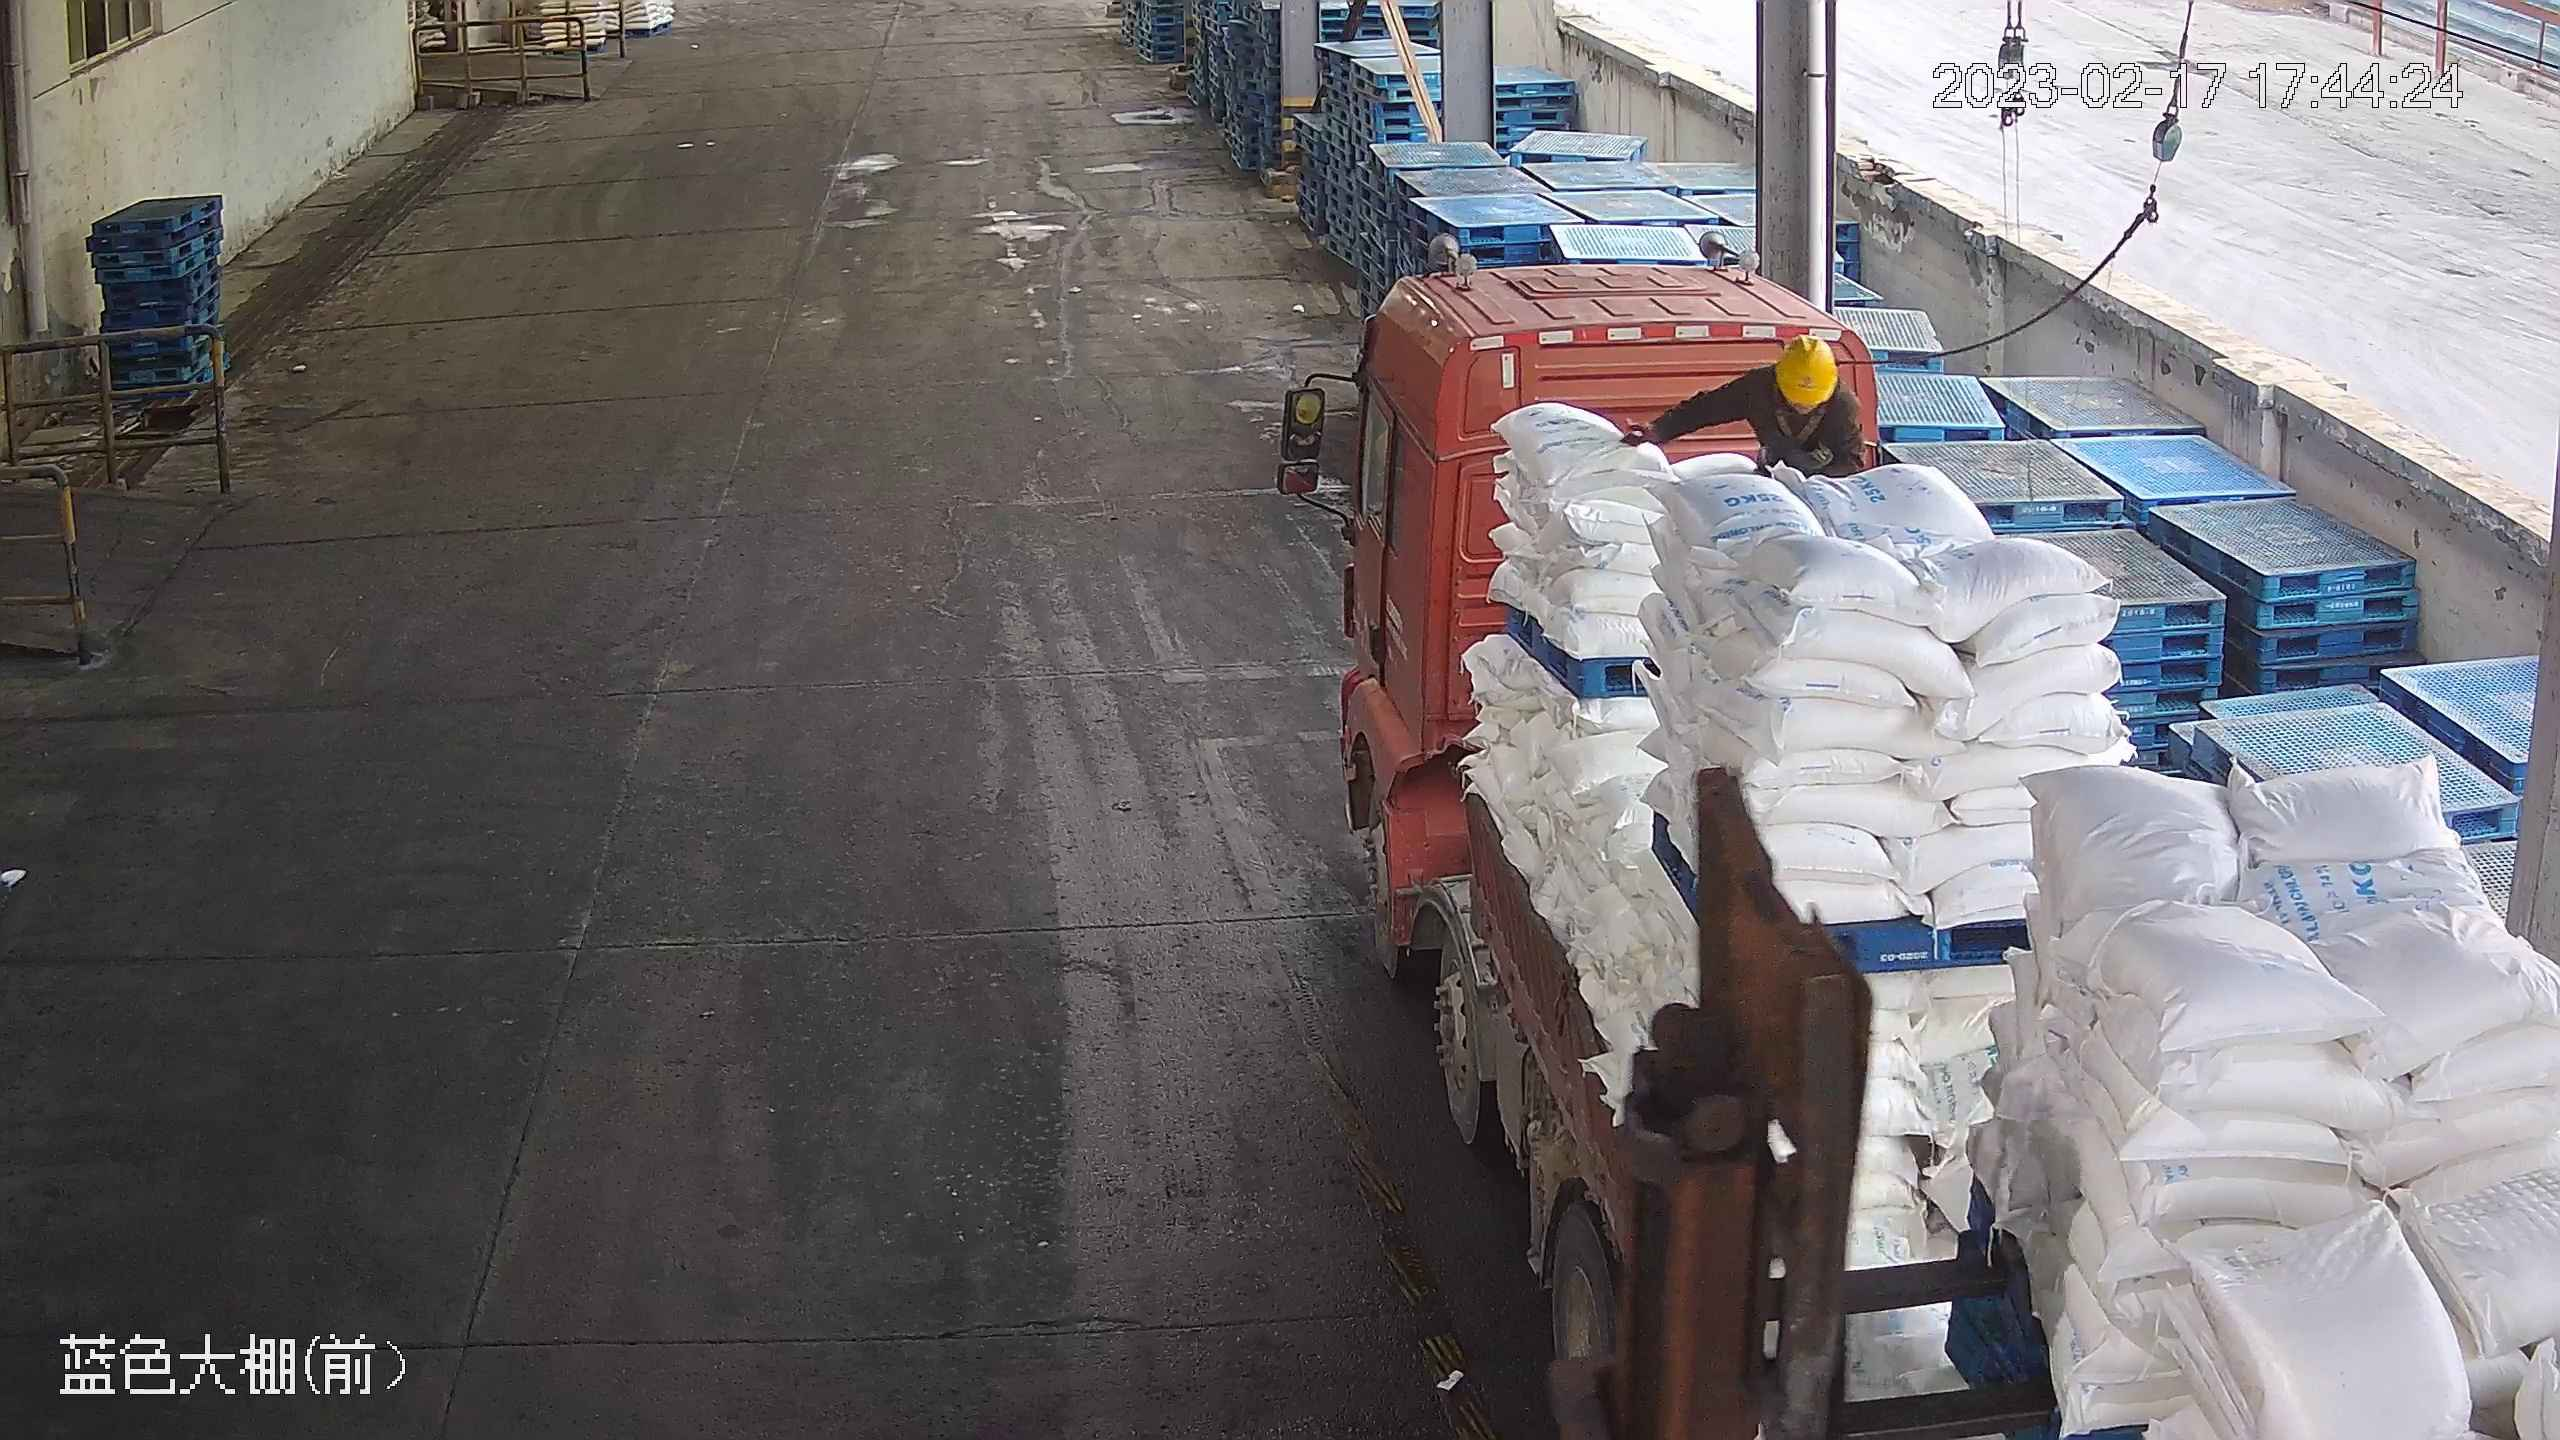belt: (1766, 401, 1837, 450)
head: (1718, 333, 1866, 461)
helmet: (1776, 333, 1839, 411)
truck: (1276, 257, 2560, 1440)
